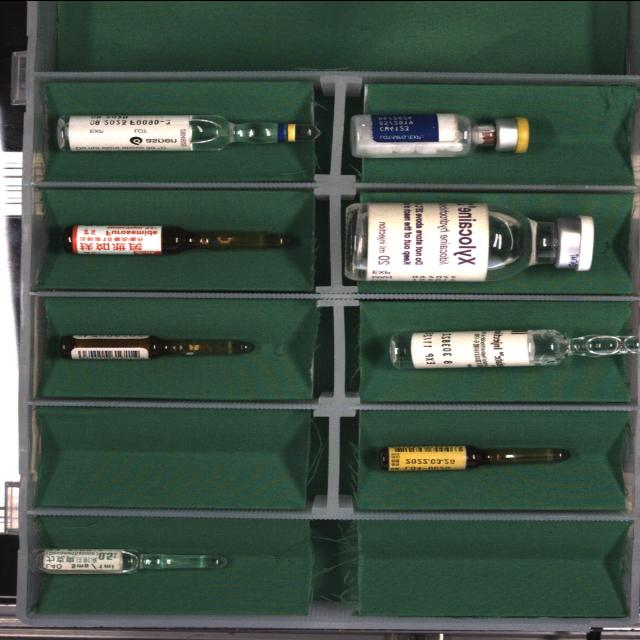Vials: (345, 201, 594, 280), (350, 112, 530, 157)
